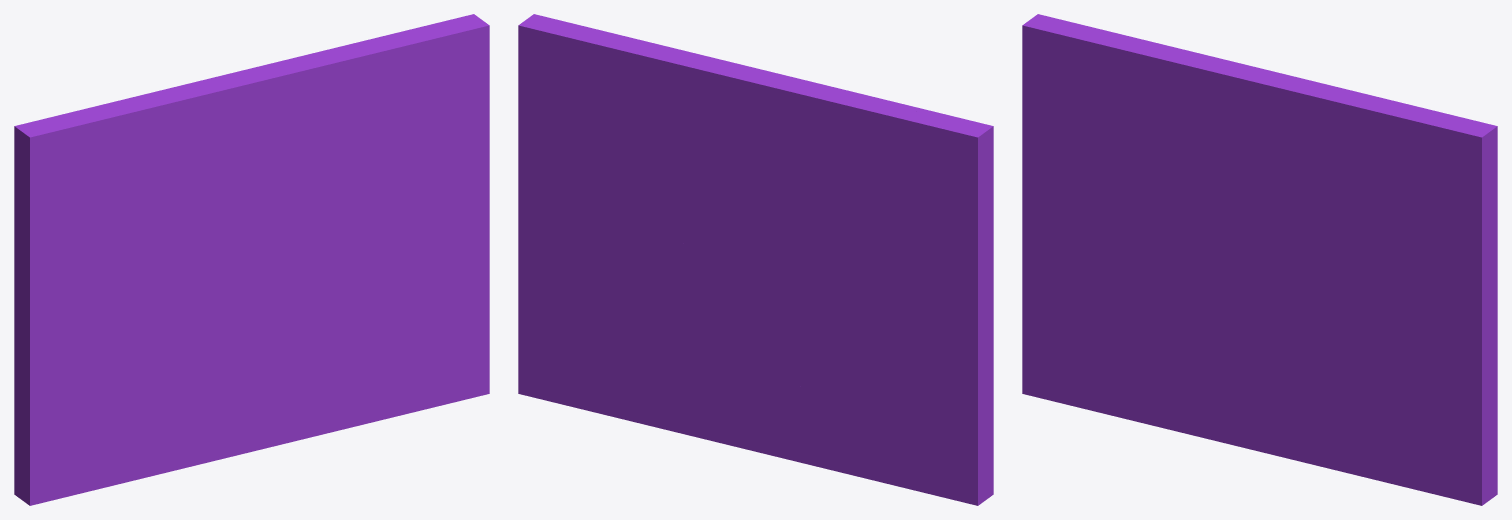
File: Barrier_163_chunks.fbx
The picture shows the model from 3 angles, left to right: view 1: azimuth 30°, elevation 25°; view 2: azimuth 150°, elevation 25°; view 3: azimuth 330°, elevation 25°; orthographic projection.
Parts seen in each view (by area): view 1: Barrier_163_0, Barrier_163_3, Barrier_163_2, Barrier_163_1; view 2: Barrier_163_0, Barrier_163_2, Barrier_163_3, Barrier_163_1; view 3: Barrier_163_0, Barrier_163_3, Barrier_163_2, Barrier_163_1.
Part boxes in pixels (bbox=[...]): Barrier_163_0: bbox=[14, 115, 262, 505]; Barrier_163_3: bbox=[174, 14, 489, 271]; Barrier_163_2: bbox=[186, 216, 489, 467]; Barrier_163_1: bbox=[47, 78, 210, 186]; Barrier_163_0: bbox=[761, 104, 993, 505]; Barrier_163_2: bbox=[518, 203, 833, 470]; Barrier_163_3: bbox=[518, 14, 848, 253]; Barrier_163_1: bbox=[724, 89, 945, 285]; Barrier_163_0: bbox=[1022, 14, 1255, 431]; Barrier_163_3: bbox=[1167, 60, 1497, 328]; Barrier_163_2: bbox=[1179, 273, 1497, 505]; Barrier_163_1: bbox=[1070, 22, 1233, 159].
Size of the model in its own units: 376 by 288 by 22.1.
